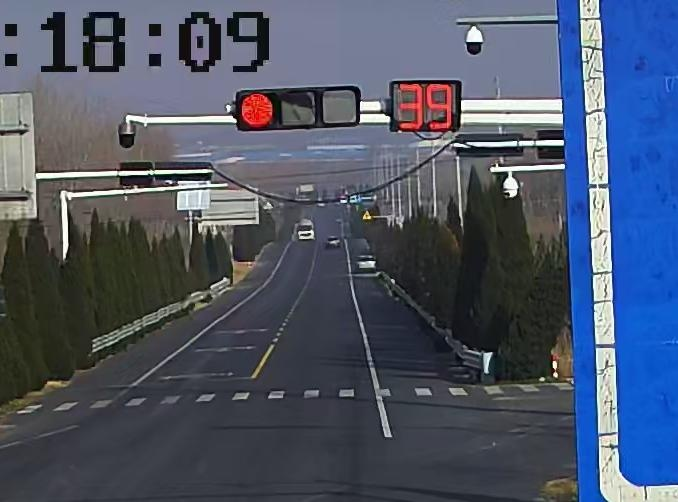red: (238, 93, 276, 129)
redtime: (396, 81, 454, 130)
